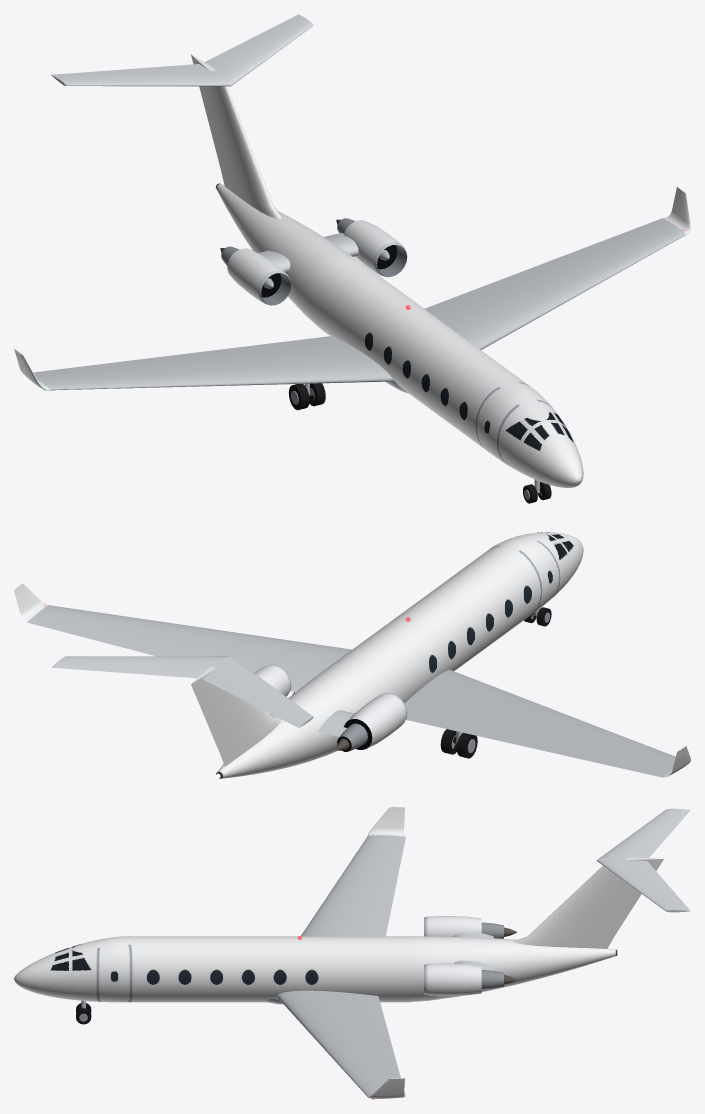
Rendered from bizl.glb.
3 renders of one model, top to bottom at view 1: azimuth 30°, elevation 25°; view 2: azimuth 150°, elevation 25°; view 3: azimuth 270°, elevation 25°, orthographic. The views are drawn at different scales.
Parts seen in each view (by area): view 1: body, gear; view 2: body, gear; view 3: body.
Boxes of the visible parts, <box> form: body: <box>14,14,690,487</box>; gear: <box>289,383,551,503</box>; body: <box>14,532,690,778</box>; gear: <box>292,607,551,758</box>; body: <box>14,807,690,1099</box>.
Bounding box in the file's own units: 16.62 × 4.63 × 17.5.
Materials: 19 (1 with a texture image).
